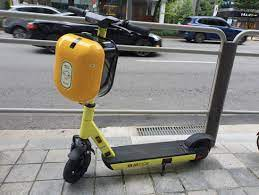kick_board: (54, 4, 212, 182)
kick_body: (109, 142, 189, 164)
kick_handler: (68, 5, 151, 36)
kick_neck: (49, 36, 116, 138)
kick_wheel: (65, 149, 91, 182), (190, 133, 211, 160)
